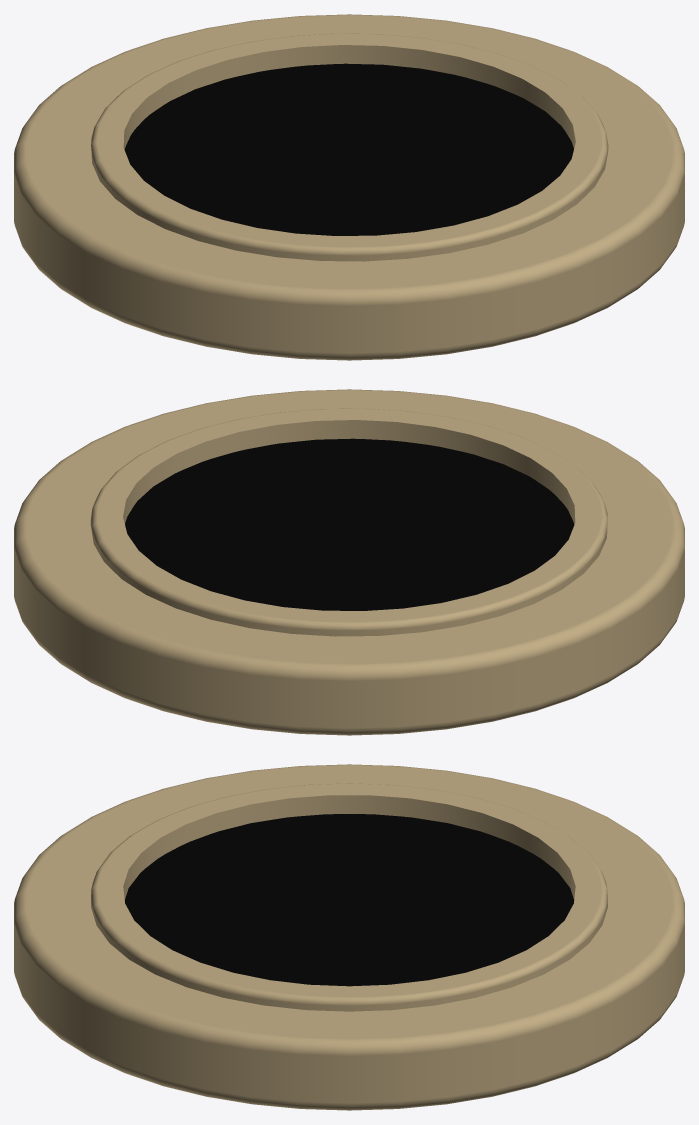
The model's file is QuarterPlate.fbx.
3 views of the same model, one above another, from view 1: azimuth 30°, elevation 25°; view 2: azimuth 150°, elevation 25°; view 3: azimuth 270°, elevation 25° (orthographic).
Parts seen in each view (by area): view 1: 缩放比例1, 凸台-拉伸1; view 2: 缩放比例1, 凸台-拉伸1; view 3: 缩放比例1, 凸台-拉伸1.
Boxes of the visible parts, bbox=[...] form: 缩放比例1: bbox=[14, 14, 684, 360]; 凸台-拉伸1: bbox=[124, 63, 573, 235]; 缩放比例1: bbox=[14, 389, 684, 735]; 凸台-拉伸1: bbox=[125, 438, 574, 610]; 缩放比例1: bbox=[14, 764, 684, 1110]; 凸台-拉伸1: bbox=[124, 814, 574, 986].
Bounding box in the file's own units: 10.24 × 1.38 × 10.21.
